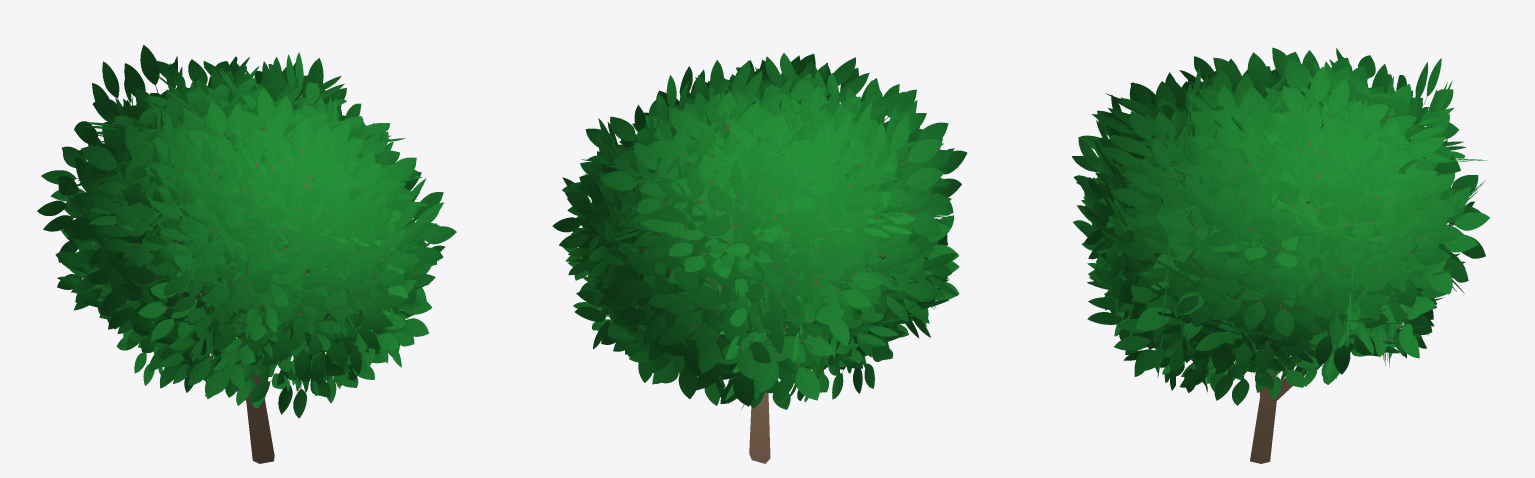
The model's file is bush.fbx.
3 renders of one model, left to right at view 1: azimuth 30°, elevation 25°; view 2: azimuth 150°, elevation 25°; view 3: azimuth 270°, elevation 25°, orthographic. The views are drawn at different scales.
Parts seen in each view (by area): view 1: PT_Generic_Shrub_01_LOD0; view 2: PT_Generic_Shrub_01_LOD0; view 3: PT_Generic_Shrub_01_LOD0.
Boxes of the visible parts, <box> form: PT_Generic_Shrub_01_LOD0: <box>37,45,456,463</box>; PT_Generic_Shrub_01_LOD0: <box>552,53,967,463</box>; PT_Generic_Shrub_01_LOD0: <box>1072,47,1489,463</box>.
Size of what is drawn, in the model's own units: 177 by 173 by 186.
